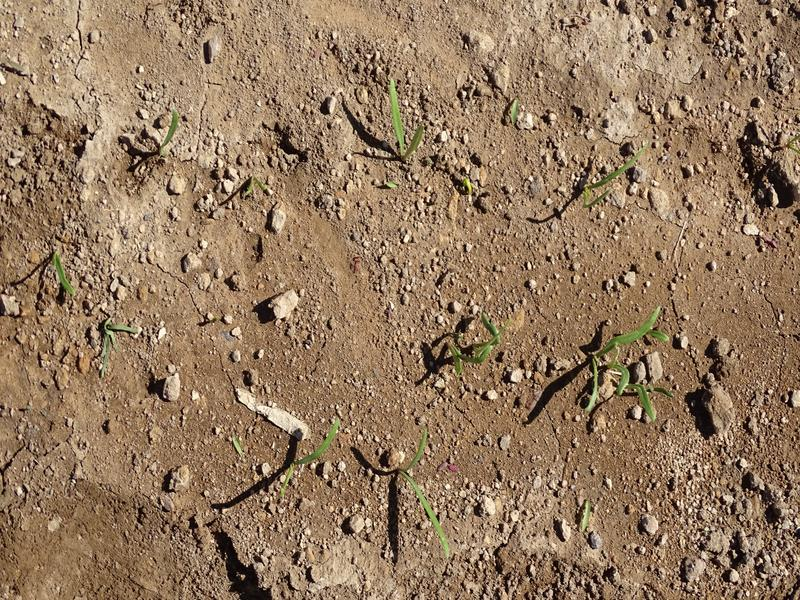Espinaca: (574, 312, 671, 420), (396, 431, 461, 558), (276, 415, 350, 496), (572, 142, 650, 216), (443, 311, 508, 378), (382, 77, 424, 163)
